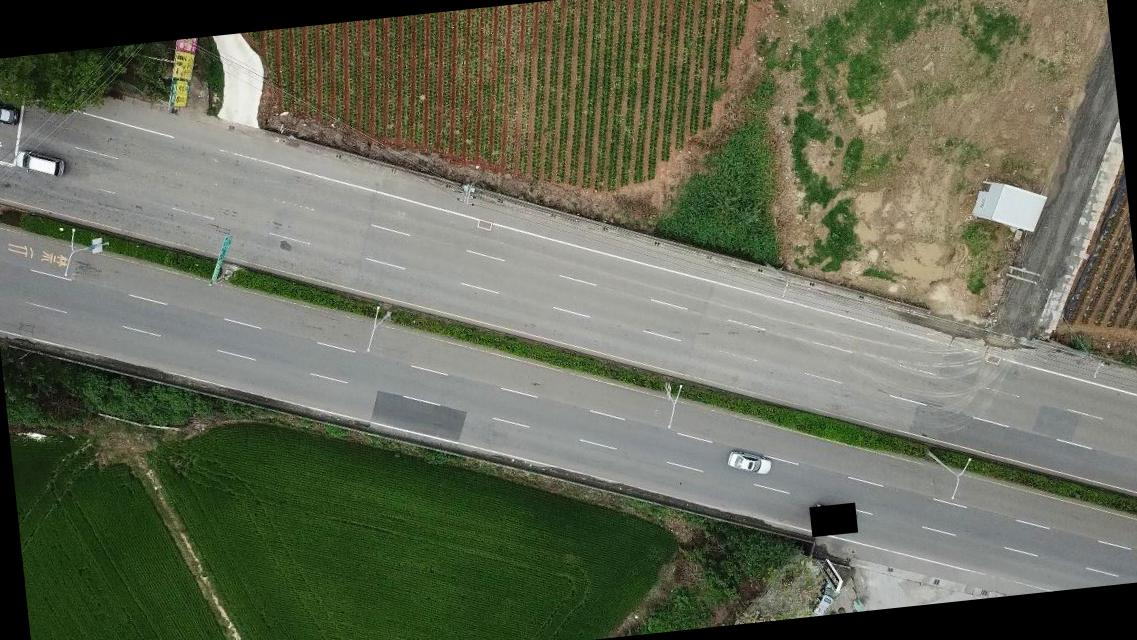vehicle: (16, 147, 66, 182), (727, 448, 774, 478), (807, 580, 841, 616), (0, 90, 22, 131)
